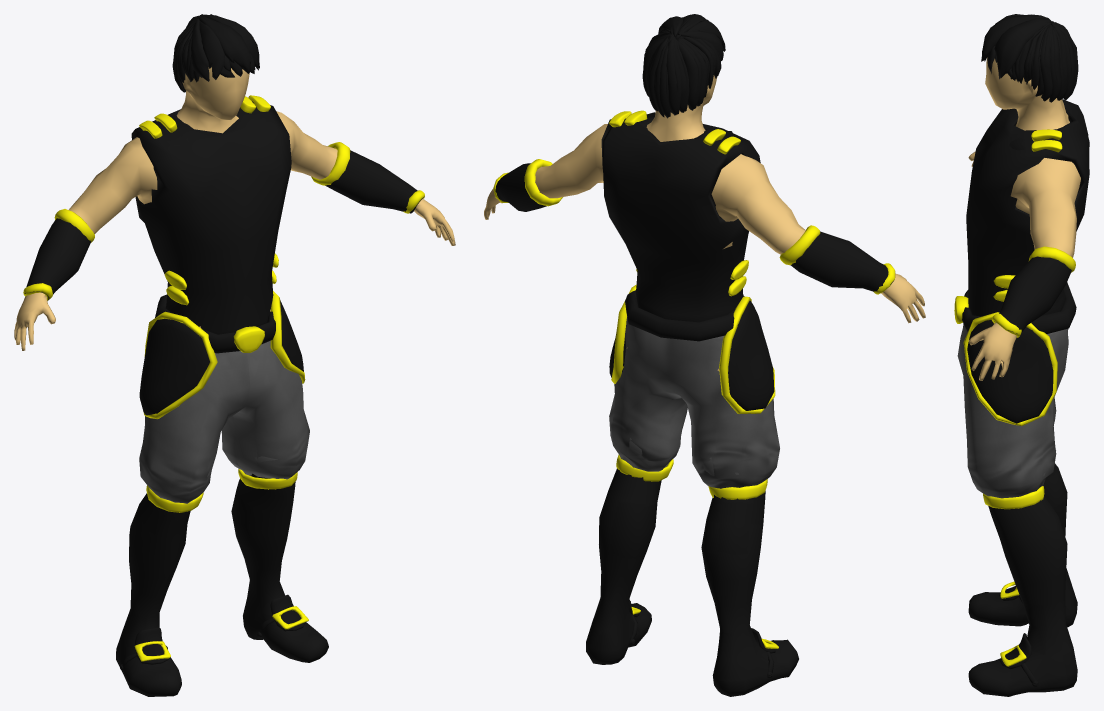
Rendered from export - Copie.fbx.
3 renders of one model, left to right at view 1: azimuth 30°, elevation 25°; view 2: azimuth 150°, elevation 25°; view 3: azimuth 270°, elevation 25°, orthographic.
Visible parts, largest first — view 1: Shield, Pants, Shoes, export___Copie, Gold_, Arm_shield, Extract22, Hair, Shoe_strings, Belt; view 2: Shield, Shoes, Pants, export___Copie, Gold_, Hair, Arm_shield, Extract22, Belt; view 3: Shoes, Shield, export___Copie, Pants, Hair, Extract22, Gold_, Arm_shield, Belt, Shoe_strings.
Part boxes in pixels (x1,y1,x2,y2): Shield: (131,101,291,334); Pants: (139,340,309,503); Shoes: (116,473,328,696); export___Copie: (14,67,455,350); Gold_: (23,95,424,661); Arm_shield: (24,150,424,300); Extract22: (139,300,303,415); Hair: (172,14,259,92); Shoe_strings: (120,594,305,670); Belt: (155,294,275,353); Shield: (601,112,760,322); Shoes: (586,468,798,696); Pants: (609,316,779,488); export___Copie: (484,75,925,371); Gold_: (493,110,895,648); Hair: (642,14,725,118); Arm_shield: (495,163,893,291); Extract22: (609,301,774,410); Belt: (625,290,744,341); Shoes: (968,463,1077,696); Shield: (966,99,1089,316); export___Copie: (968,57,1080,380); Pants: (957,323,1068,498); Hair: (981,14,1078,102); Extract22: (967,320,1053,423); Gold_: (954,129,1075,666); Arm_shield: (993,256,1071,333); Belt: (962,282,1076,333); Shoe_strings: (999,585,1038,686).
Size of the model in its own units: 136 by 37.14 by 193.
Materials: 10 (10 with a texture image).
